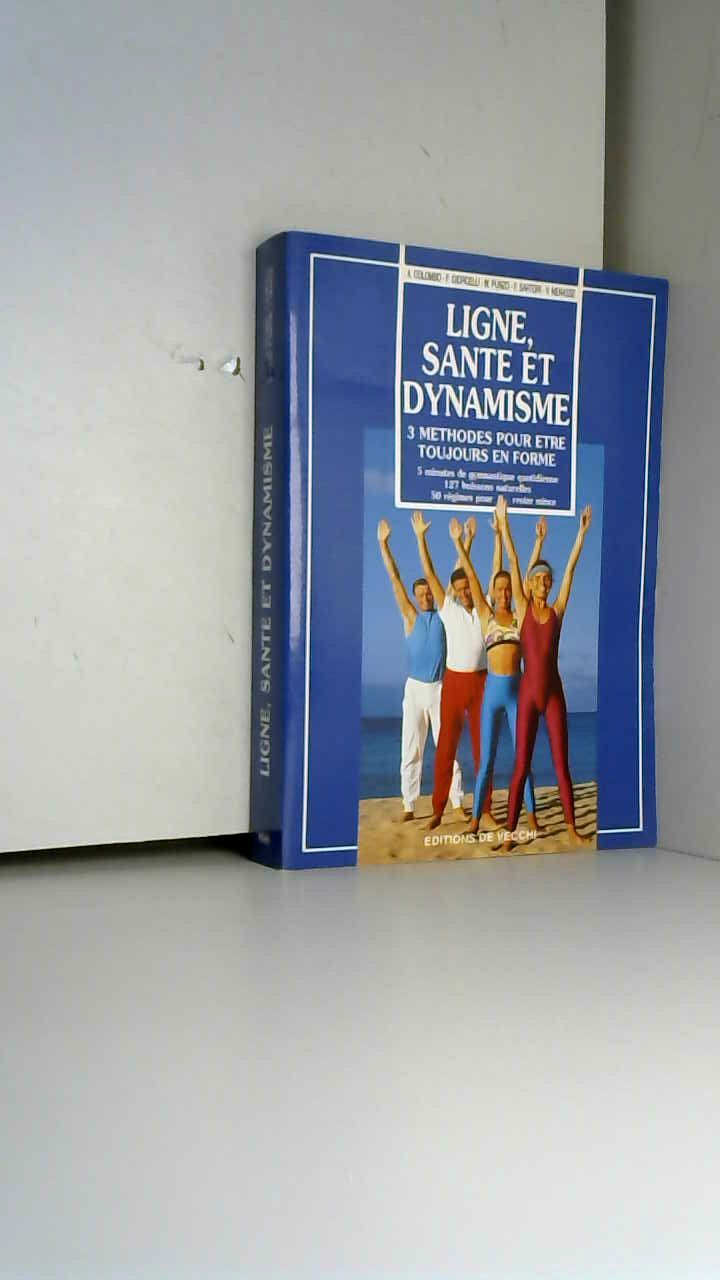book: (220, 200, 719, 889)
